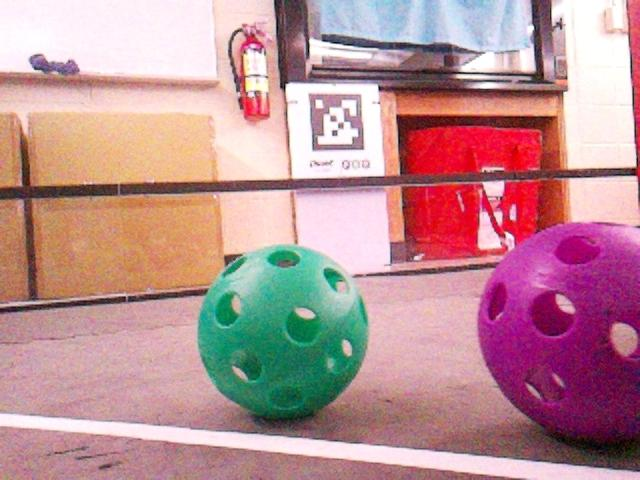Green: (196, 244, 370, 418)
Purple: (475, 223, 640, 442)
